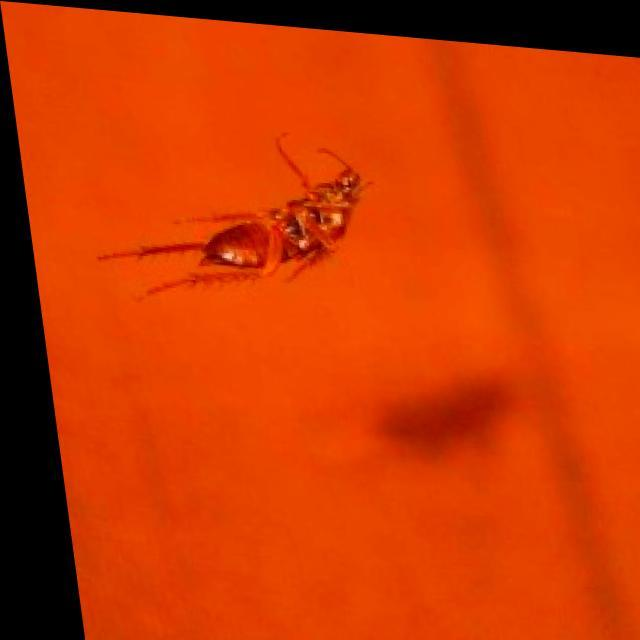cockroach: (94, 129, 371, 305)
